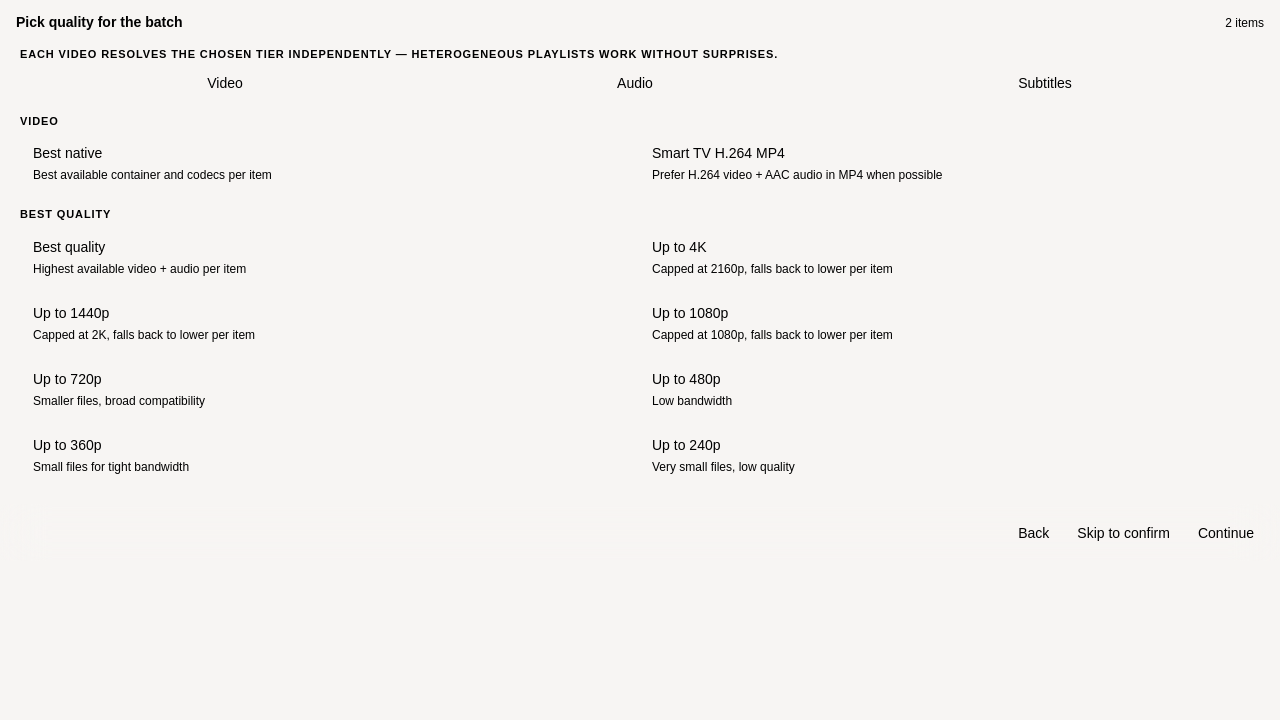
Test case: StepPlaylistPresets · subtitles batch › switches the batch to subtitles-only seeded with the UI language
Click the button "Subtitles".
click(1045, 83)  # box [840,67,1250,99]
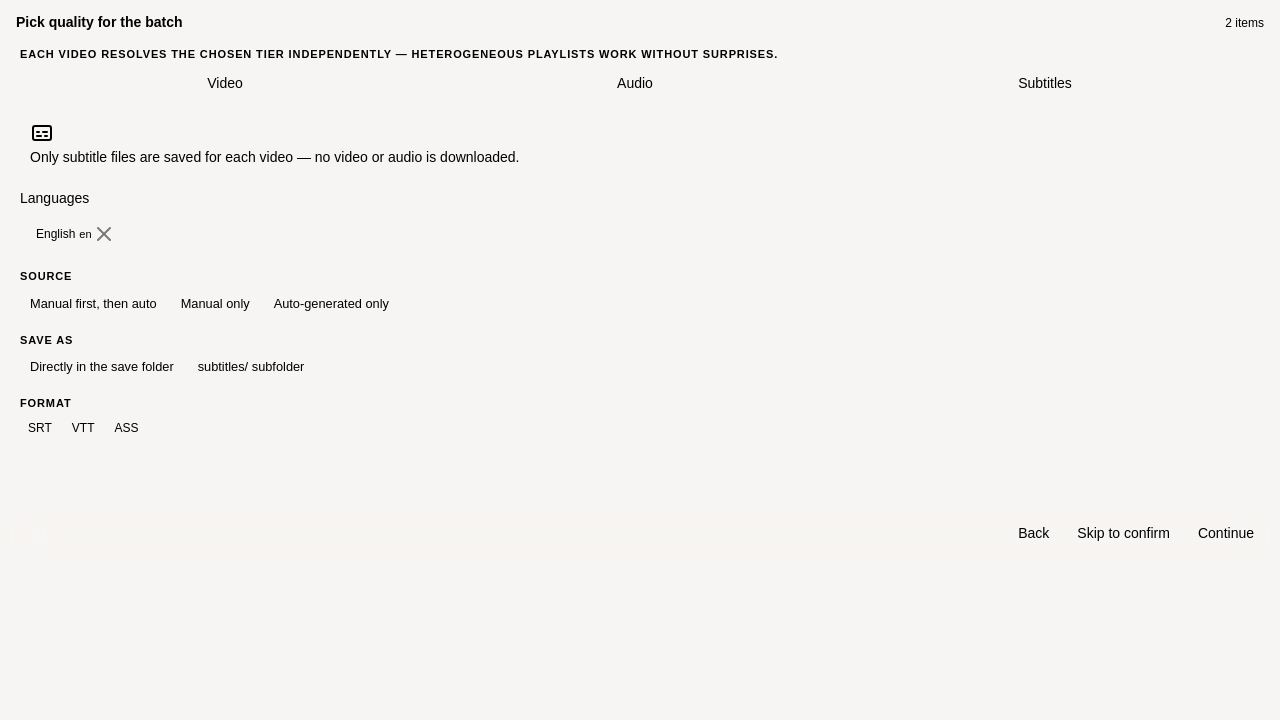
Expected: the button "Continue" is enabled, [1188,517,1264,549]
Expected: the element with test id "playlist-subtitle-languages" shows "English", [36,227,75,241]
Expected: the text "Only subtitle files are saved for each video — no video or audio is downloaded." is shown, [30,149,520,165]
